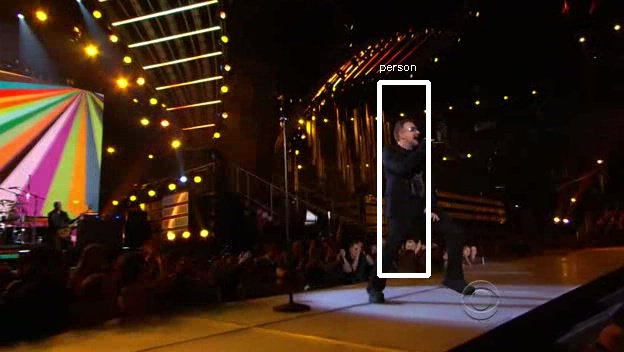person: (380, 125, 447, 246), (377, 125, 444, 246), (383, 125, 450, 246), (380, 122, 447, 243), (380, 128, 447, 249)
target_negative: (95, 19, 478, 159), (360, 120, 621, 235), (434, 123, 474, 282), (404, 3, 487, 50), (587, 129, 618, 193), (540, 199, 549, 211)
